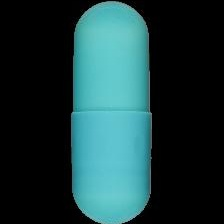0143-3142: (0, 0, 224, 224)
